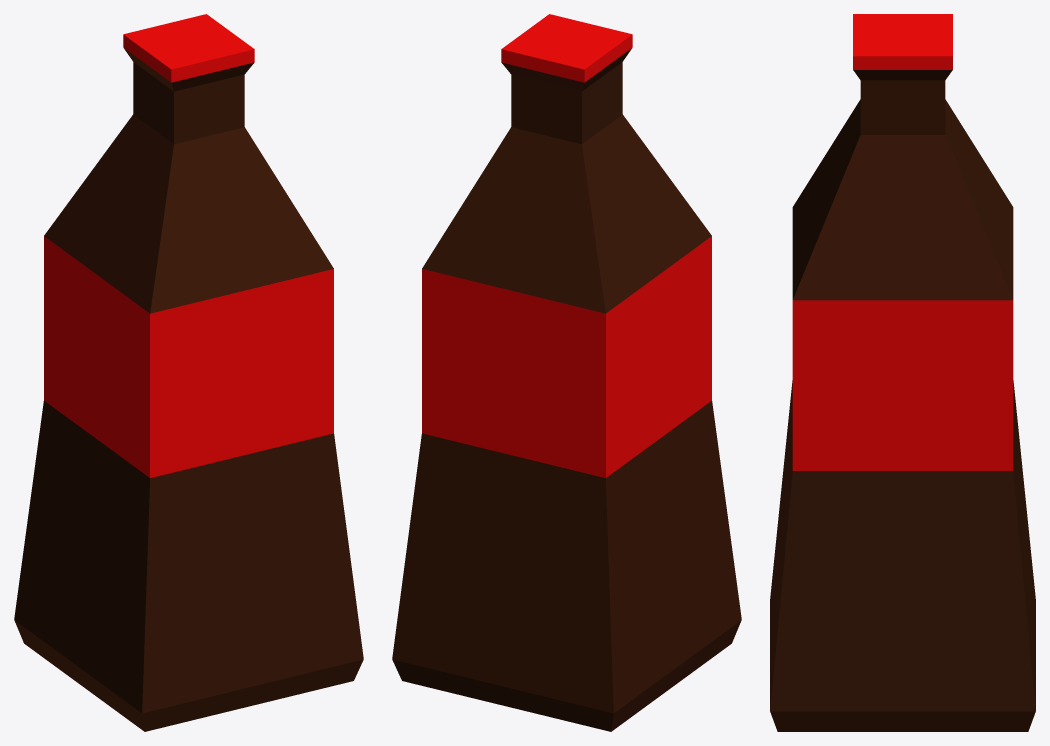
File: Bottle.FBX
3 views of the same model, side by side, from view 1: azimuth 30°, elevation 25°; view 2: azimuth 150°, elevation 25°; view 3: azimuth 270°, elevation 25° (orthographic). The views are drawn at different scales.
Visible parts, largest first — view 1: Bottle; view 2: Bottle; view 3: Bottle.
Part boxes in pixels (x1,y1,x2,y2): Bottle: [14, 14, 363, 731]; Bottle: [392, 14, 741, 731]; Bottle: [770, 14, 1035, 731].
Bounding box in the file's own units: 3.52 × 9.43 × 3.53.
